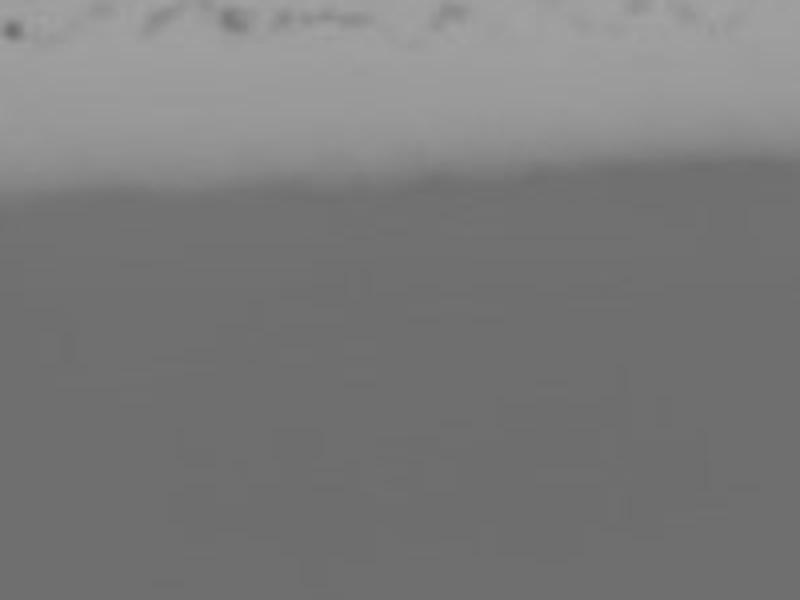defect: (222, 7, 253, 38), (667, 1, 702, 26), (1, 16, 29, 47), (435, 1, 471, 22), (135, 18, 161, 42), (268, 6, 295, 28), (334, 9, 373, 24), (626, 1, 656, 18), (704, 23, 723, 47), (152, 6, 178, 22), (313, 4, 334, 23), (428, 12, 447, 31), (299, 7, 313, 24)
